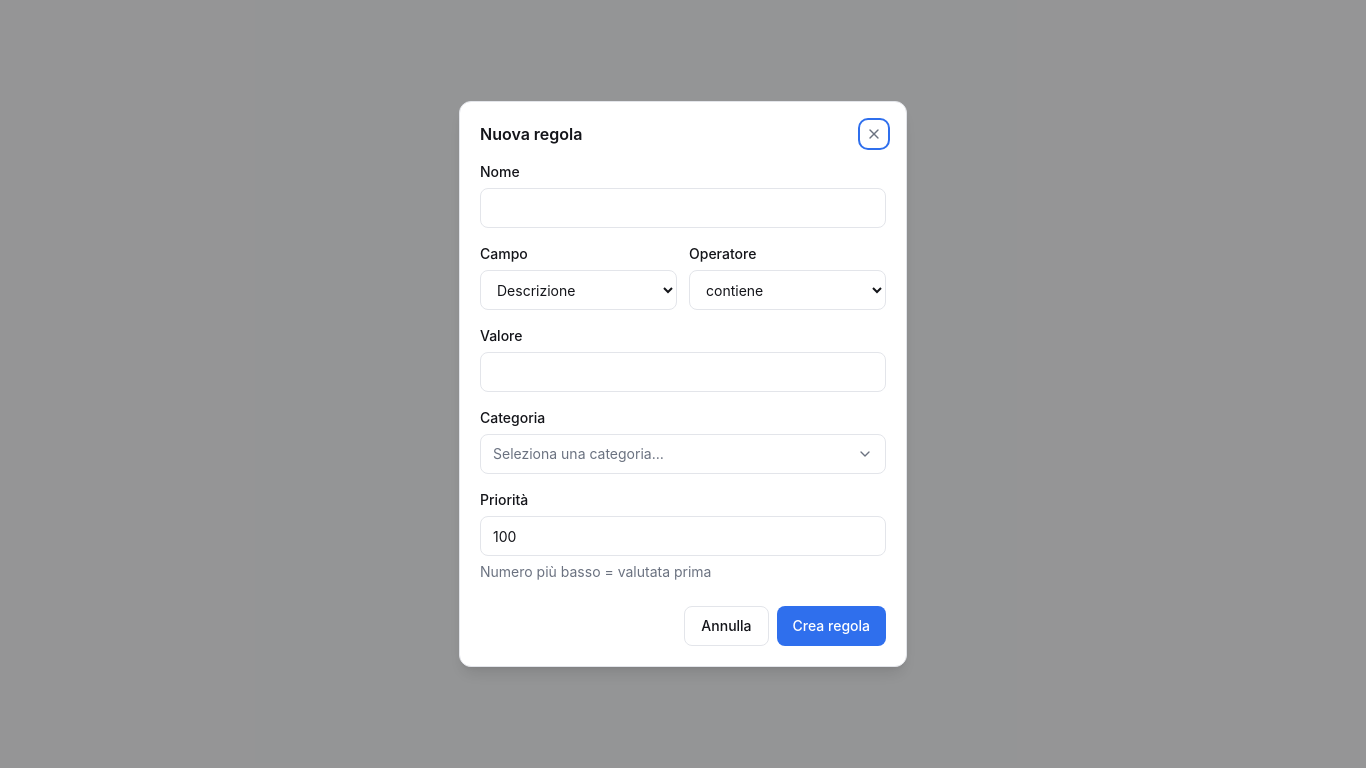
Test: RuleFormDialog › rifiuta una regex non valida
Type "Netflix" into the field labelled "Nome" at point(683, 208), box [480,188,886,228]
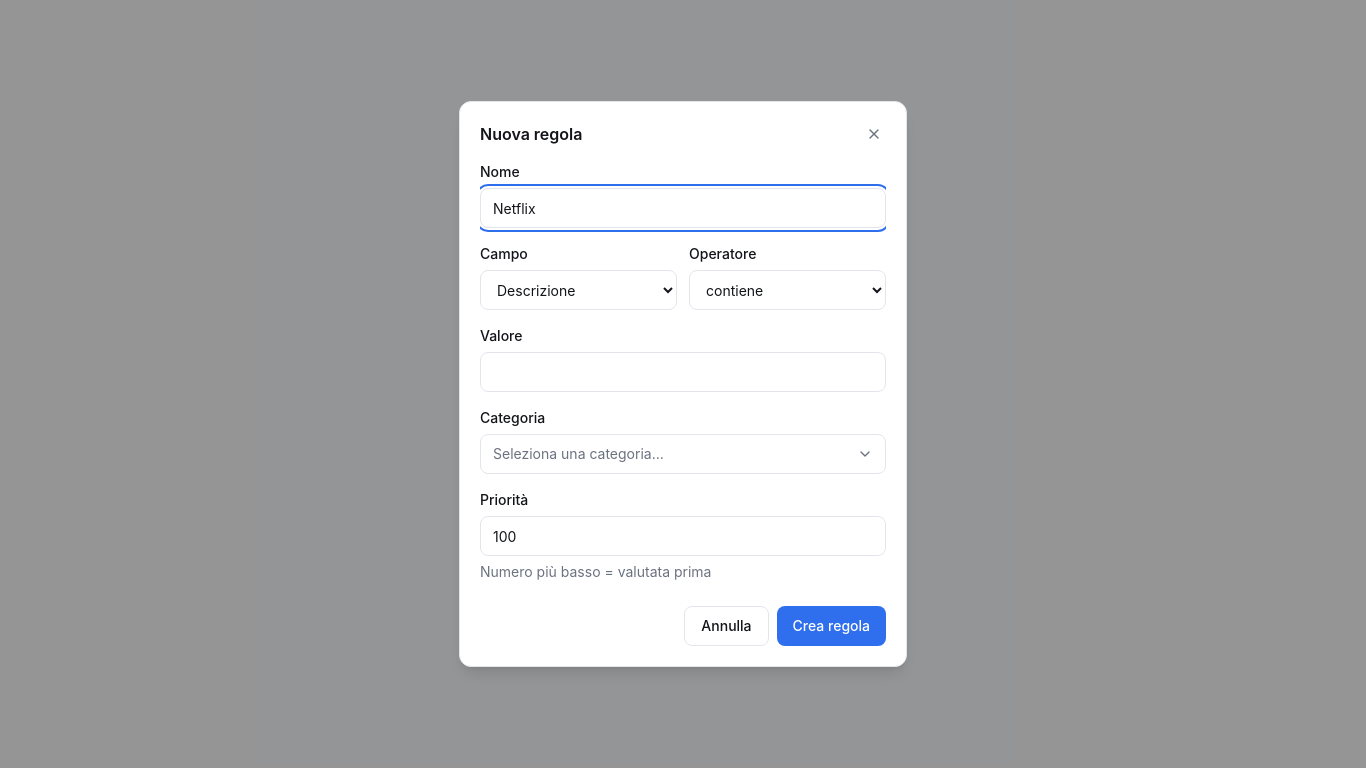
Select "corrisponde a (regex)" in the dropdown labelled "Operatore" at point(788, 290), box [689,270,886,310]
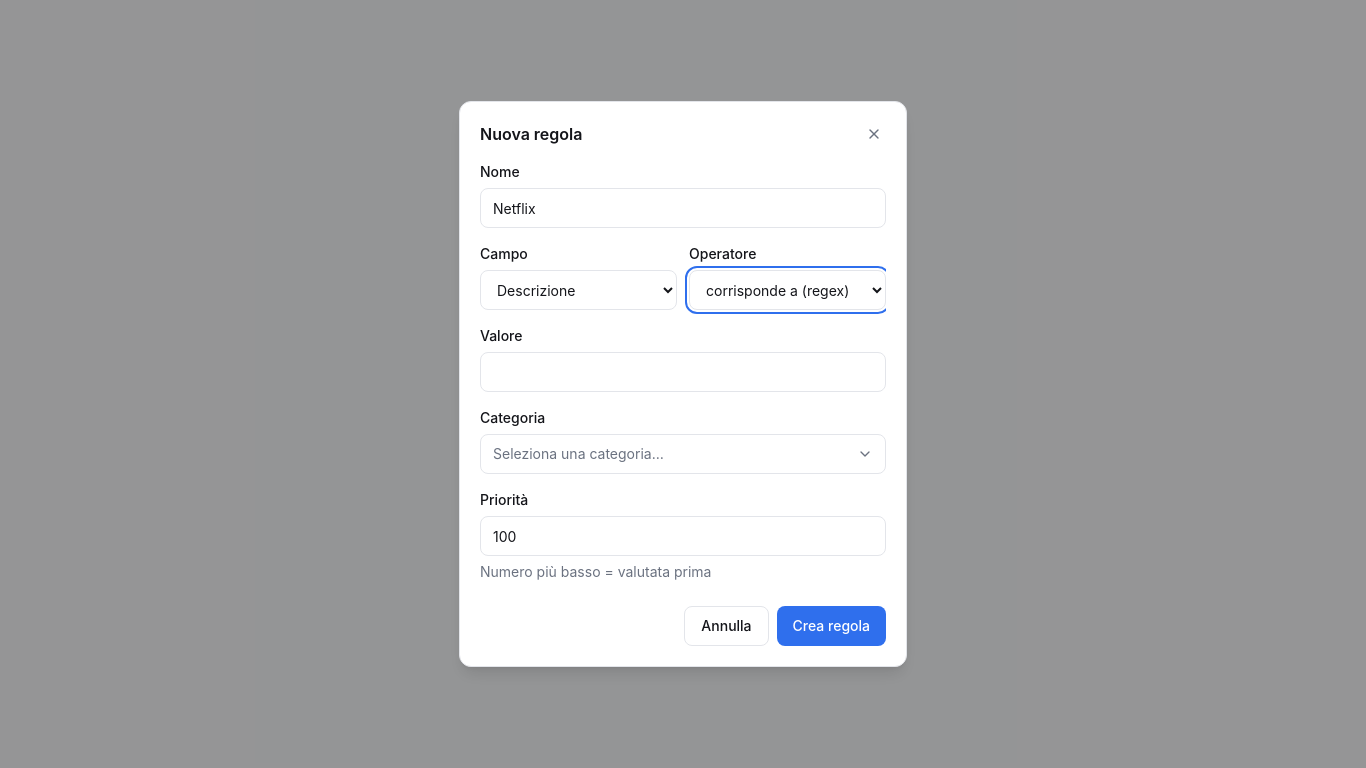
Type "[unterminated" into the field labelled "Valore" at point(683, 372), box [480,352,886,392]
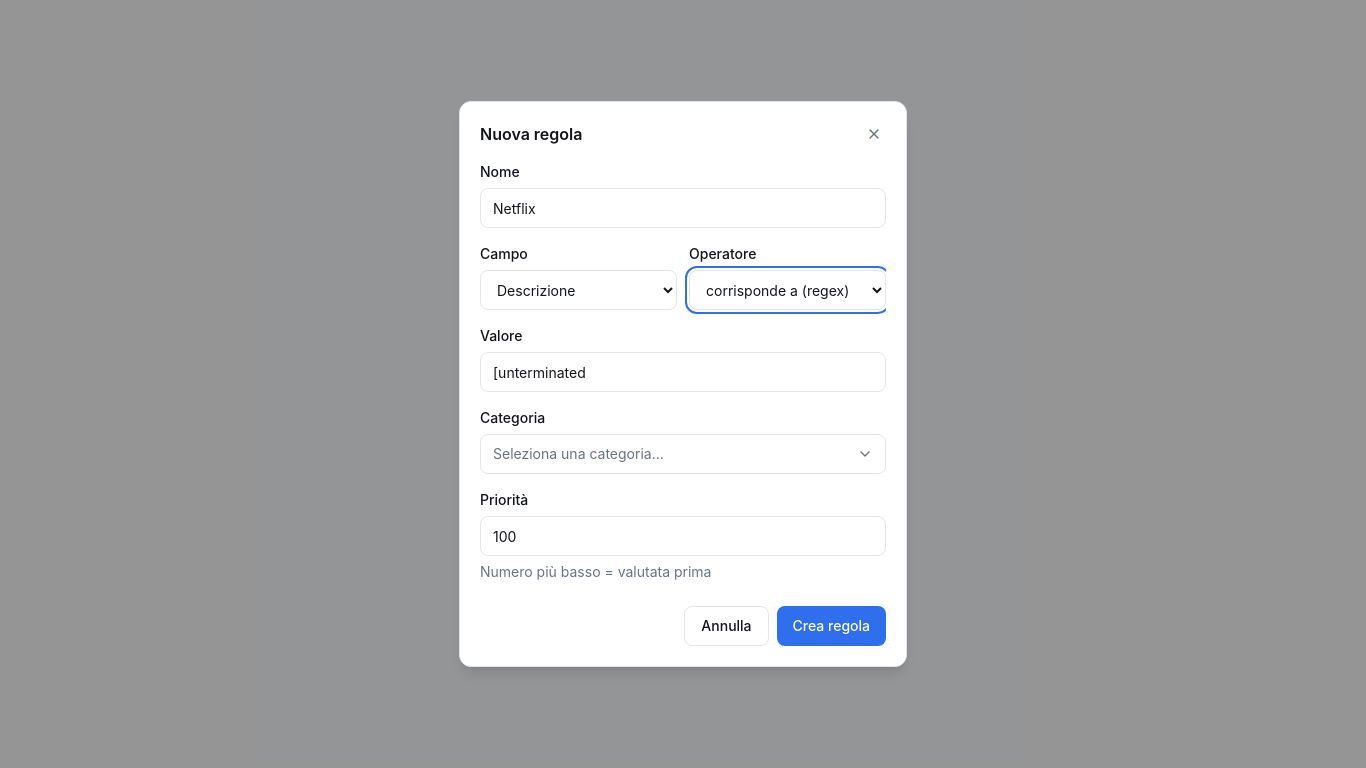
Click the button labelled "Seleziona una categoria…" at point(578, 454), box [480,434,886,474]
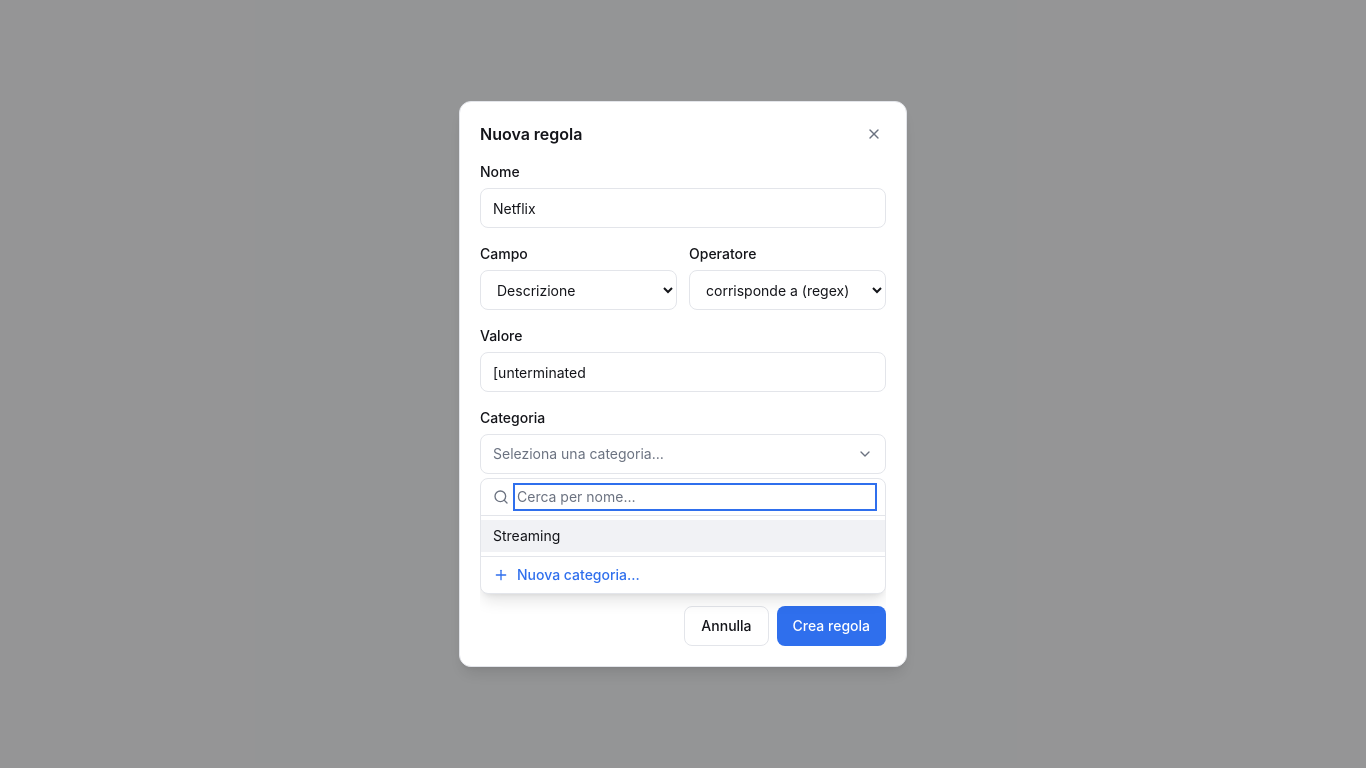
Click the option "Streaming" at point(527, 536), box [481,520,885,552]
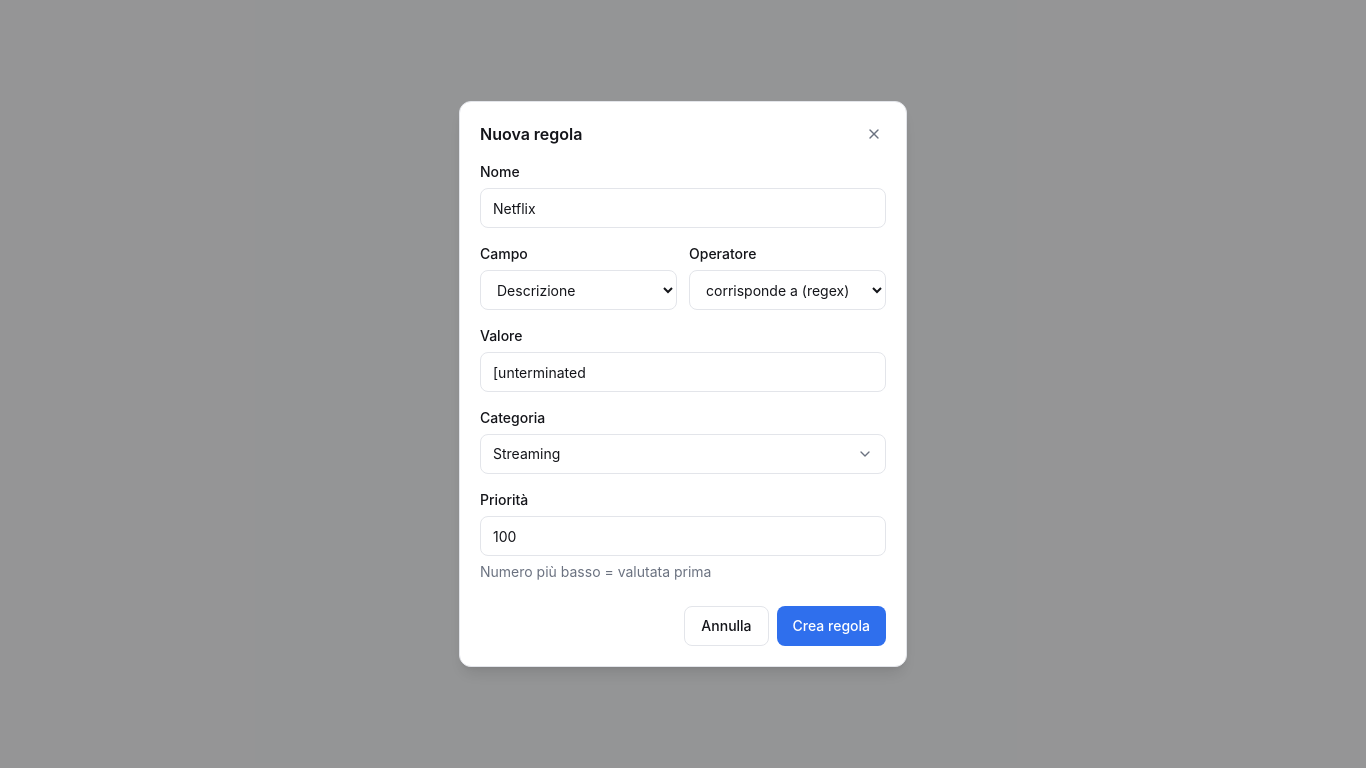
Click the button "Crea regola" at point(831, 626), box [777,606,886,646]
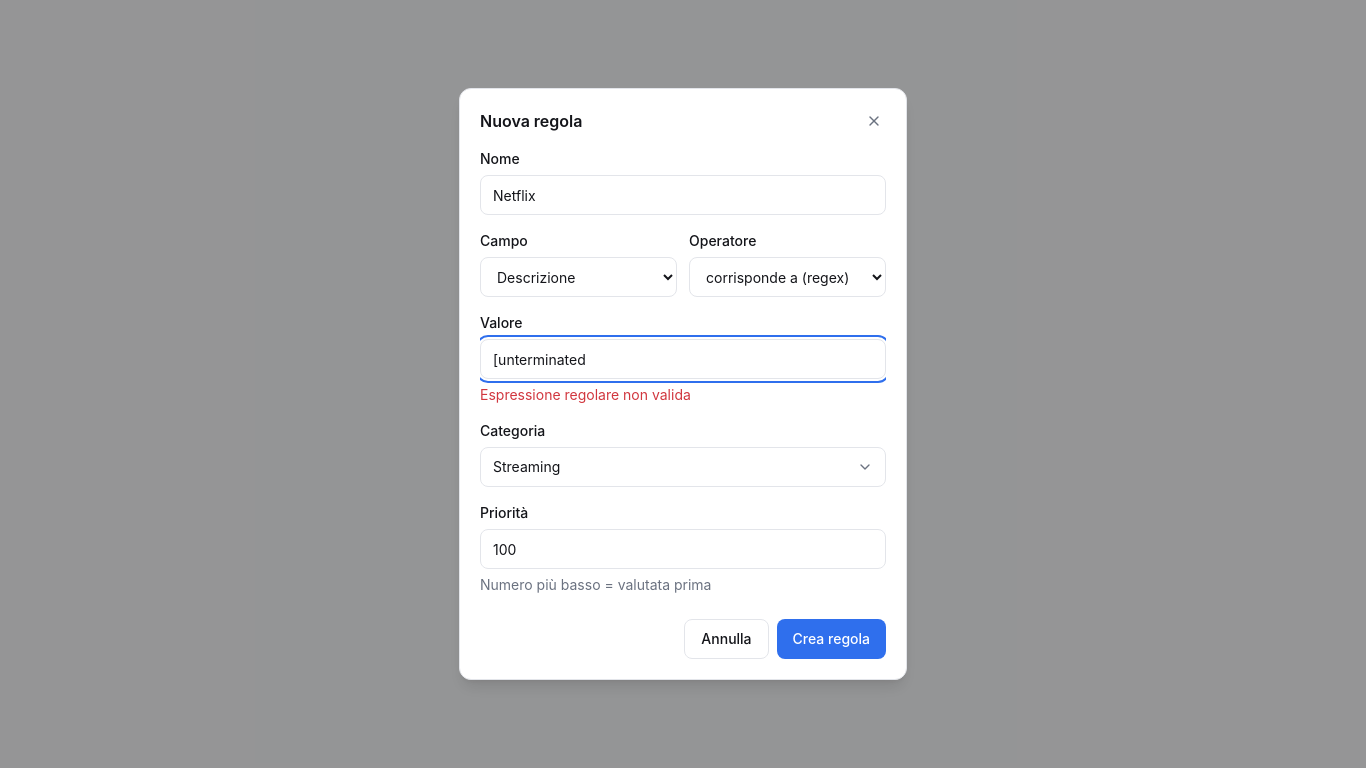
Check: the text "Espressione regolare non valida" is shown, box [480,386,691,403]
